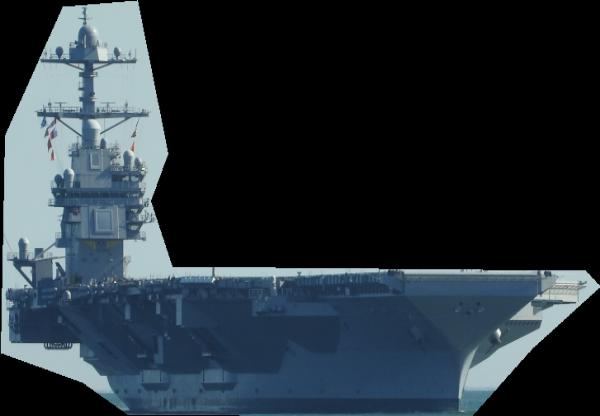Aircraft Carrier: (0, 1, 600, 416)
